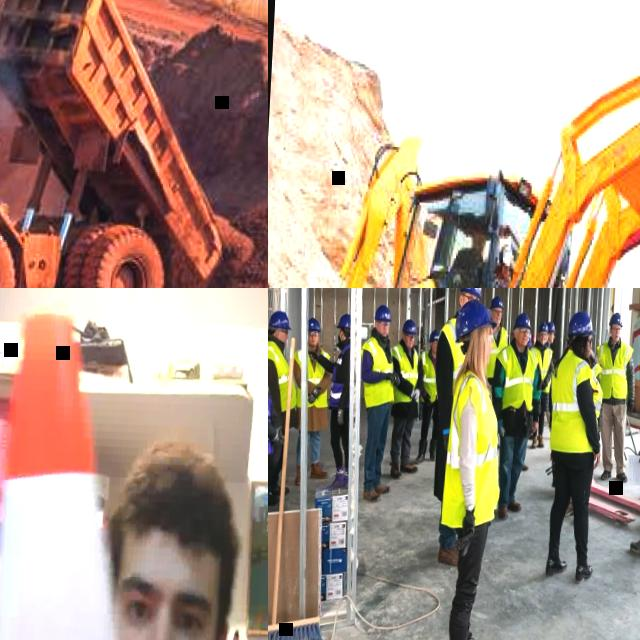Hardhat: (454, 298, 498, 346), (568, 310, 598, 337), (268, 311, 292, 330), (512, 312, 534, 332), (374, 305, 394, 323), (458, 288, 484, 299), (608, 313, 624, 329), (402, 319, 418, 335), (488, 296, 504, 311), (336, 313, 351, 329), (308, 317, 322, 333), (428, 329, 440, 345), (538, 321, 550, 334), (547, 321, 558, 334), (416, 326, 424, 332), (528, 332, 532, 343)
Mask: (338, 330, 343, 344)
NO-Hardhat: (110, 448, 237, 567), (470, 230, 488, 241)
NO-Mask: (471, 243, 485, 253), (517, 337, 529, 347), (377, 328, 389, 337), (279, 335, 288, 347), (308, 337, 318, 347), (487, 348, 492, 366), (611, 334, 620, 343), (404, 341, 414, 349), (585, 346, 591, 359), (492, 316, 501, 324), (539, 338, 546, 344), (431, 347, 437, 354), (549, 337, 554, 344)
NO-Safety Vest: (452, 249, 485, 288)
Person: (84, 437, 268, 640), (430, 294, 510, 640), (538, 308, 608, 587), (425, 288, 483, 566), (485, 310, 545, 523), (354, 303, 404, 502), (304, 311, 358, 494), (590, 311, 640, 483), (288, 317, 335, 488), (386, 319, 426, 481), (268, 309, 299, 506), (268, 310, 292, 517), (524, 320, 556, 452), (413, 327, 443, 466), (484, 295, 512, 396), (444, 226, 489, 288), (536, 321, 558, 439), (413, 325, 426, 353)
Safety Cone: (0, 299, 225, 640)
Safety Vest: (442, 368, 507, 529), (548, 349, 606, 455), (494, 343, 540, 411), (436, 314, 471, 402), (358, 336, 398, 411), (594, 339, 635, 401), (292, 346, 332, 408), (268, 338, 299, 412), (389, 343, 421, 406), (328, 343, 351, 411), (416, 350, 440, 404), (486, 326, 510, 379), (528, 345, 554, 393), (268, 361, 279, 460), (547, 347, 554, 383), (590, 363, 602, 378), (417, 335, 426, 353)
vehicle: (299, 0, 640, 288), (0, 0, 251, 288)
